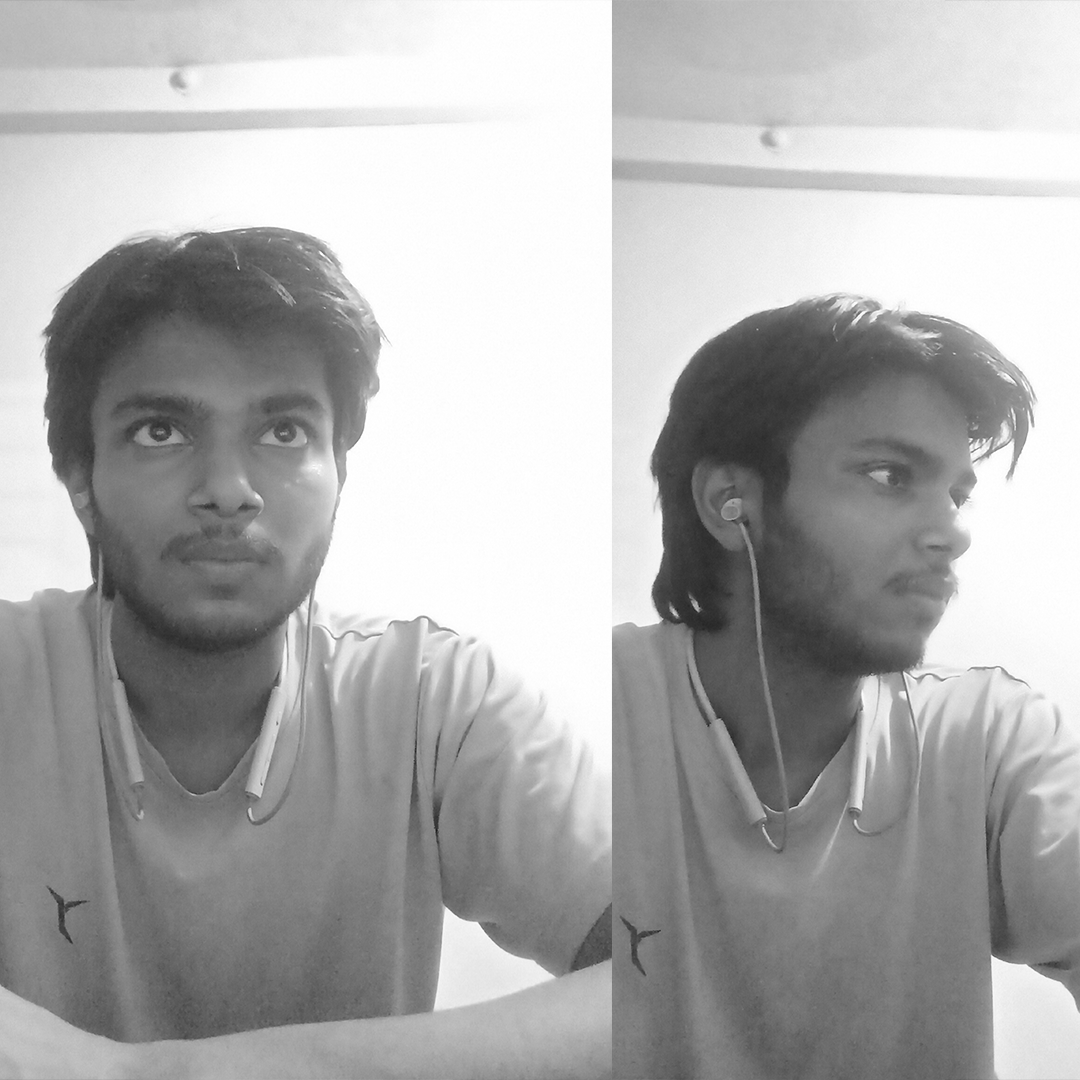Focused: (55, 225, 434, 819)
distracted: (654, 237, 1064, 944)
